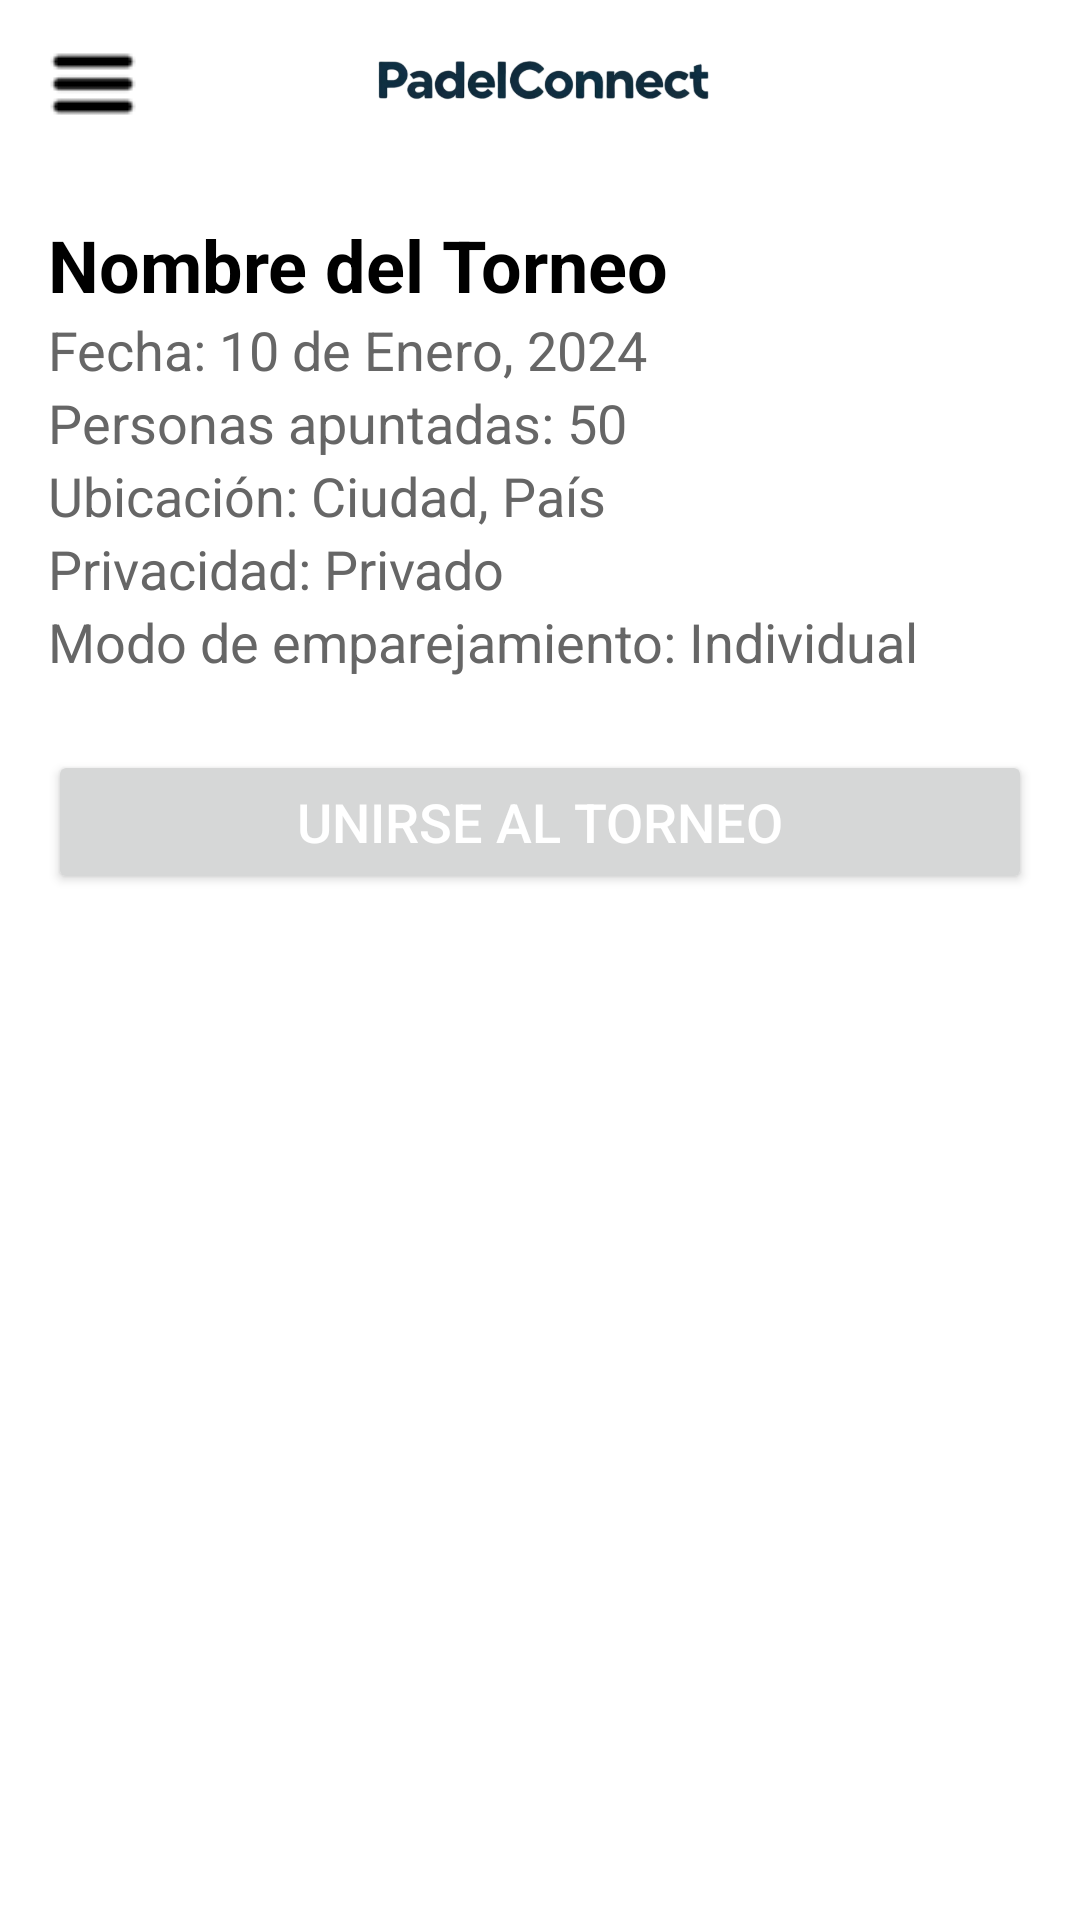

Point at icon controls on the screen. Image size 1080 x 1920, points as (x,y).
menu: (93,84)
